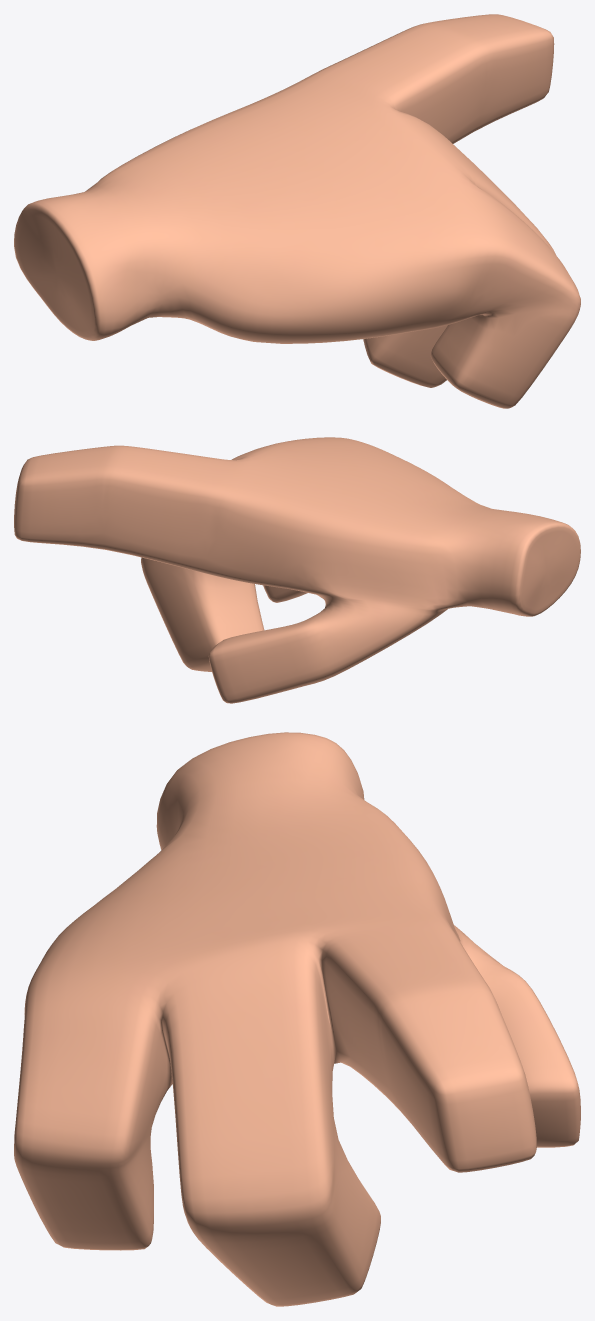
File: Hand.fbx
The picture shows the model from 3 angles, top to bottom: view 1: azimuth 30°, elevation 25°; view 2: azimuth 150°, elevation 25°; view 3: azimuth 270°, elevation 25°; orthographic projection. The views are drawn at different scales.
Parts seen in each view (by area): view 1: Hand; view 2: Hand; view 3: Hand.
Part boxes in pixels (bbox=[...]): Hand: bbox=[14, 14, 580, 408]; Hand: bbox=[14, 437, 580, 703]; Hand: bbox=[14, 732, 580, 1306].
Size of the model in its own units: 57.47 by 27.7 by 38.81.
